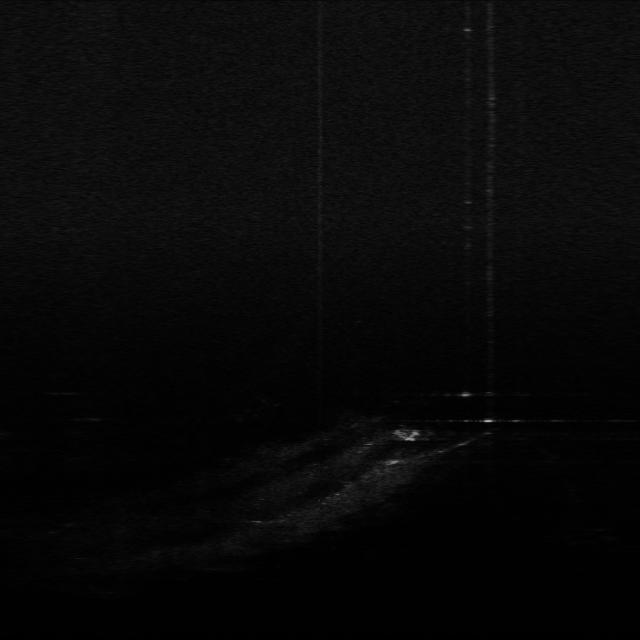rov: (392, 425, 421, 443)
